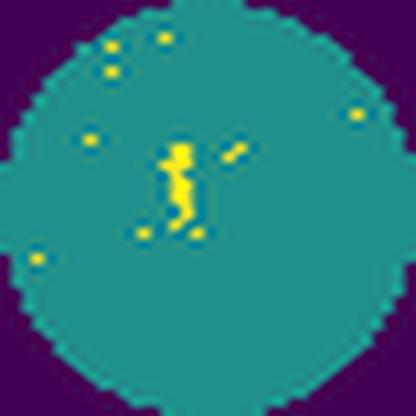Loc: (156, 139, 203, 236)
